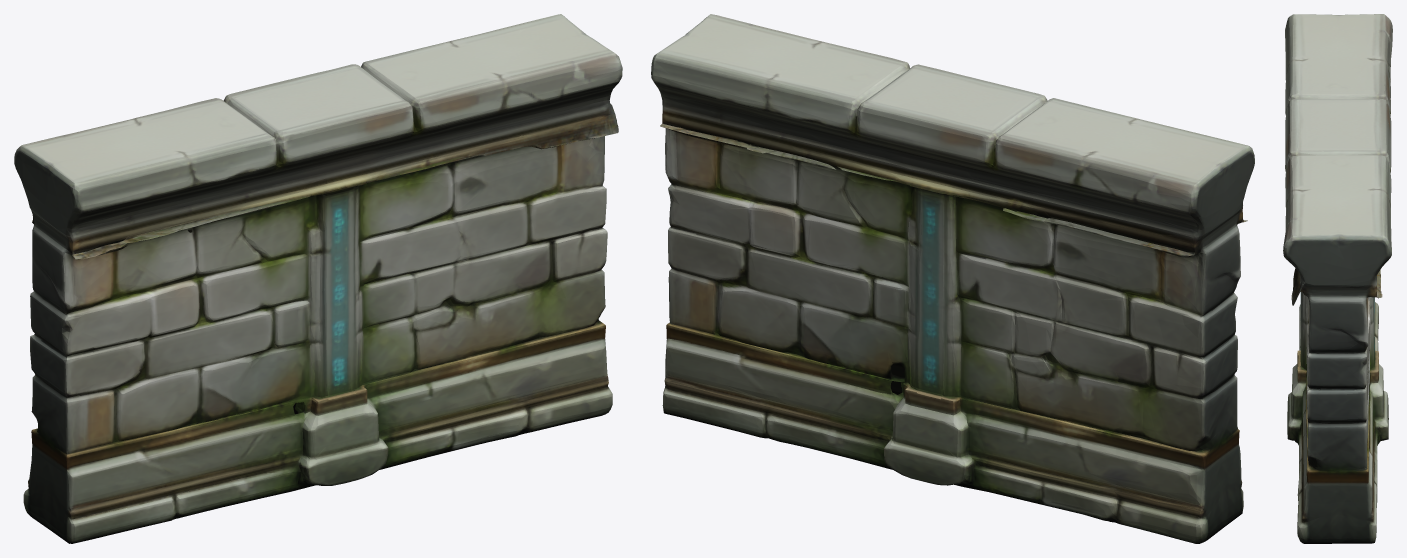
Rendered from wall_segment2.glb.
3 views of the same model, side by side, from view 1: azimuth 30°, elevation 25°; view 2: azimuth 150°, elevation 25°; view 3: azimuth 270°, elevation 25° (orthographic). The views are drawn at different scales.
Visible parts, largest first — view 1: world; view 2: world; view 3: world.
Part boxes in pixels (<box>): world: <box>14,14,622,543</box>; world: <box>651,14,1254,543</box>; world: <box>1283,14,1392,543</box>.
Bounding box in the file's own units: 1 × 0.636 × 0.2053.
1 material, 1 textured.
